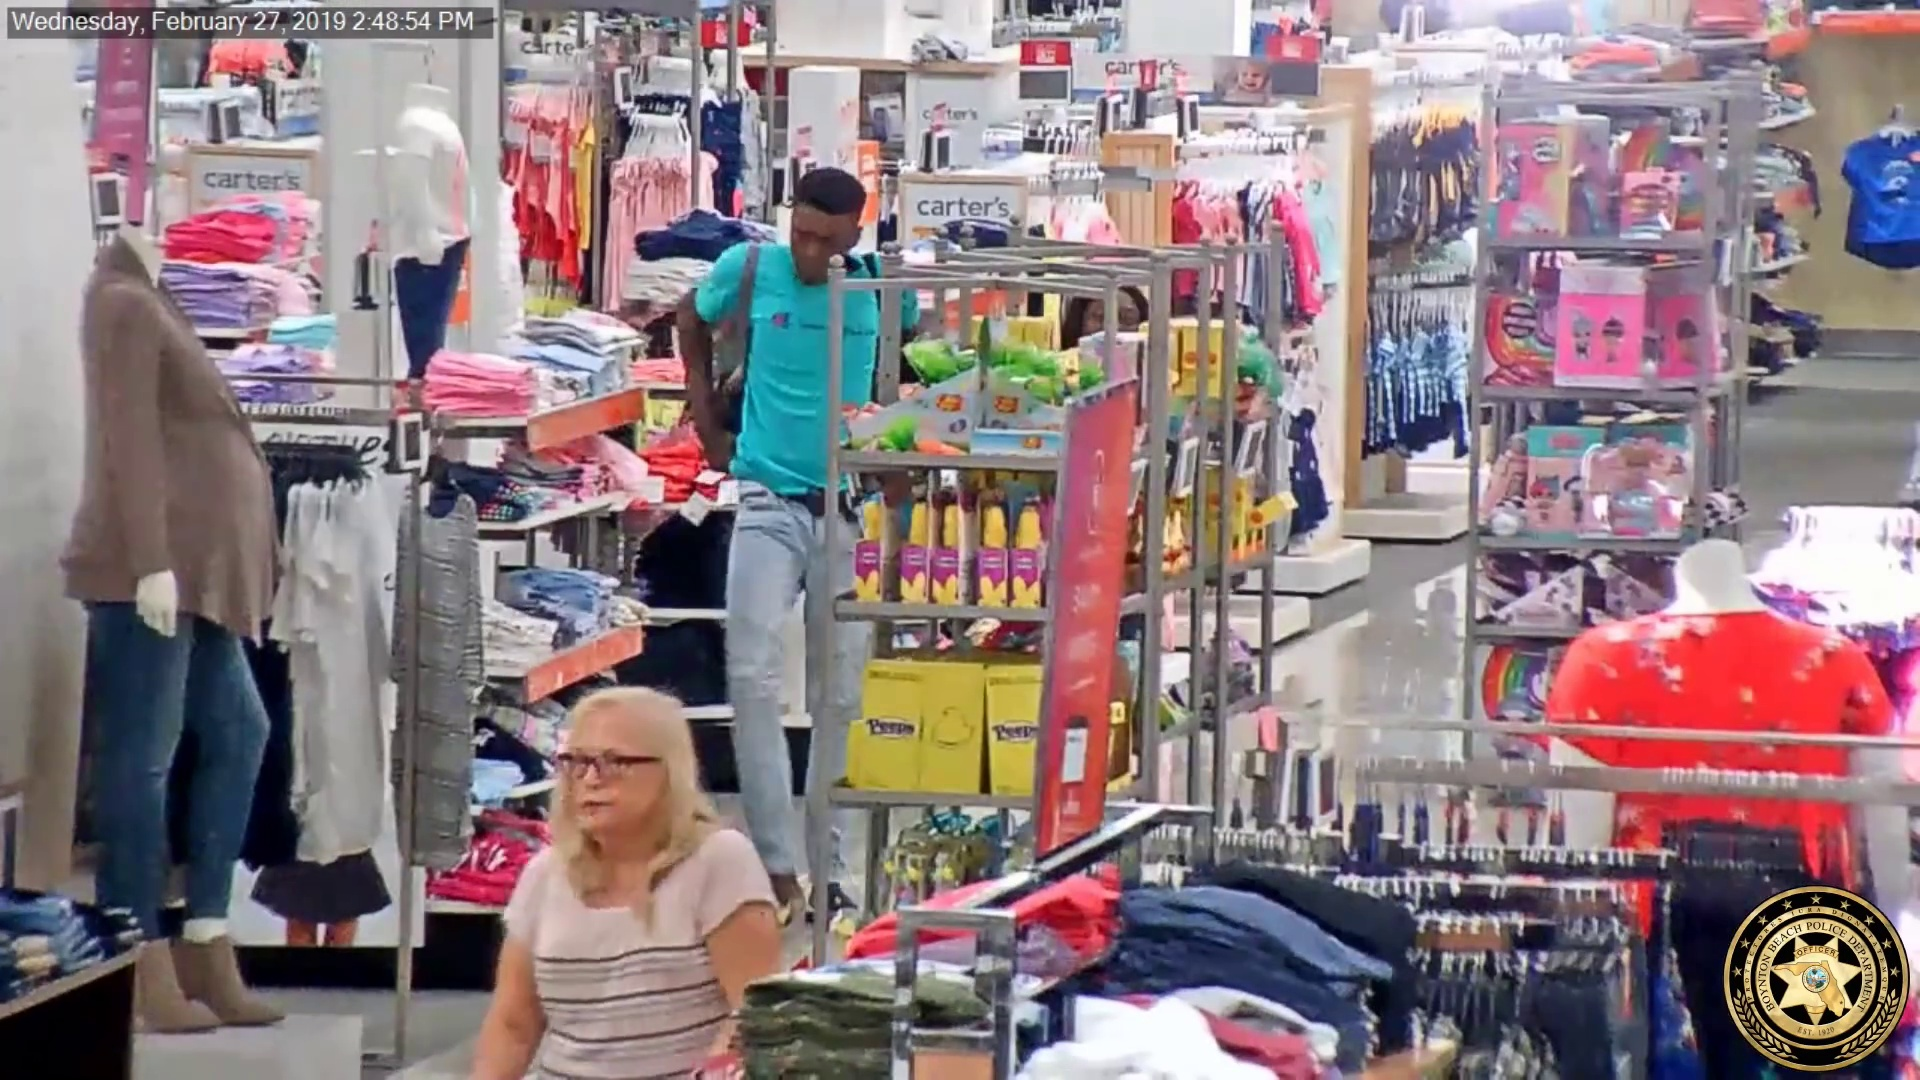face: (547, 722, 682, 839), (786, 188, 855, 279)
